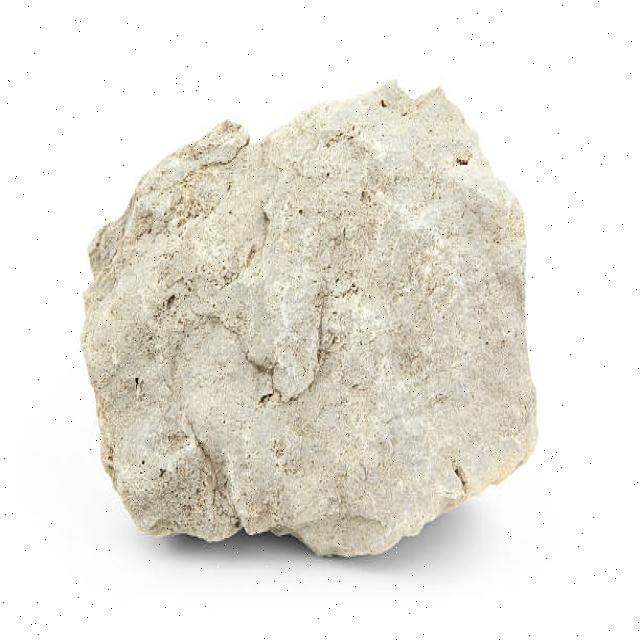Sedimentary: (72, 83, 565, 563)
